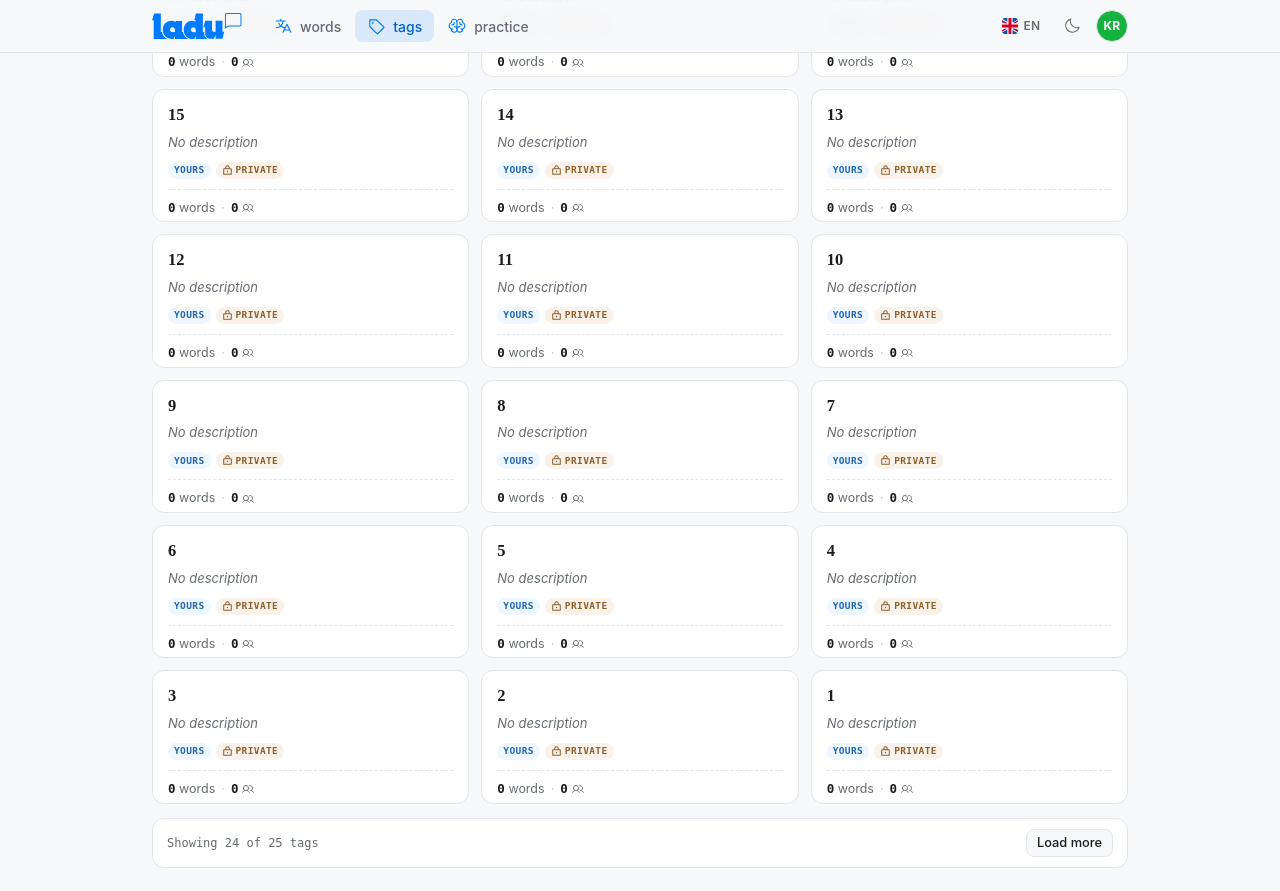
TagsPage — listing and scopes › Load more appends the next page
(page scrolled)
Step 1. Click the button "Load more" → click(1070, 843), box [1026, 829, 1113, 857]
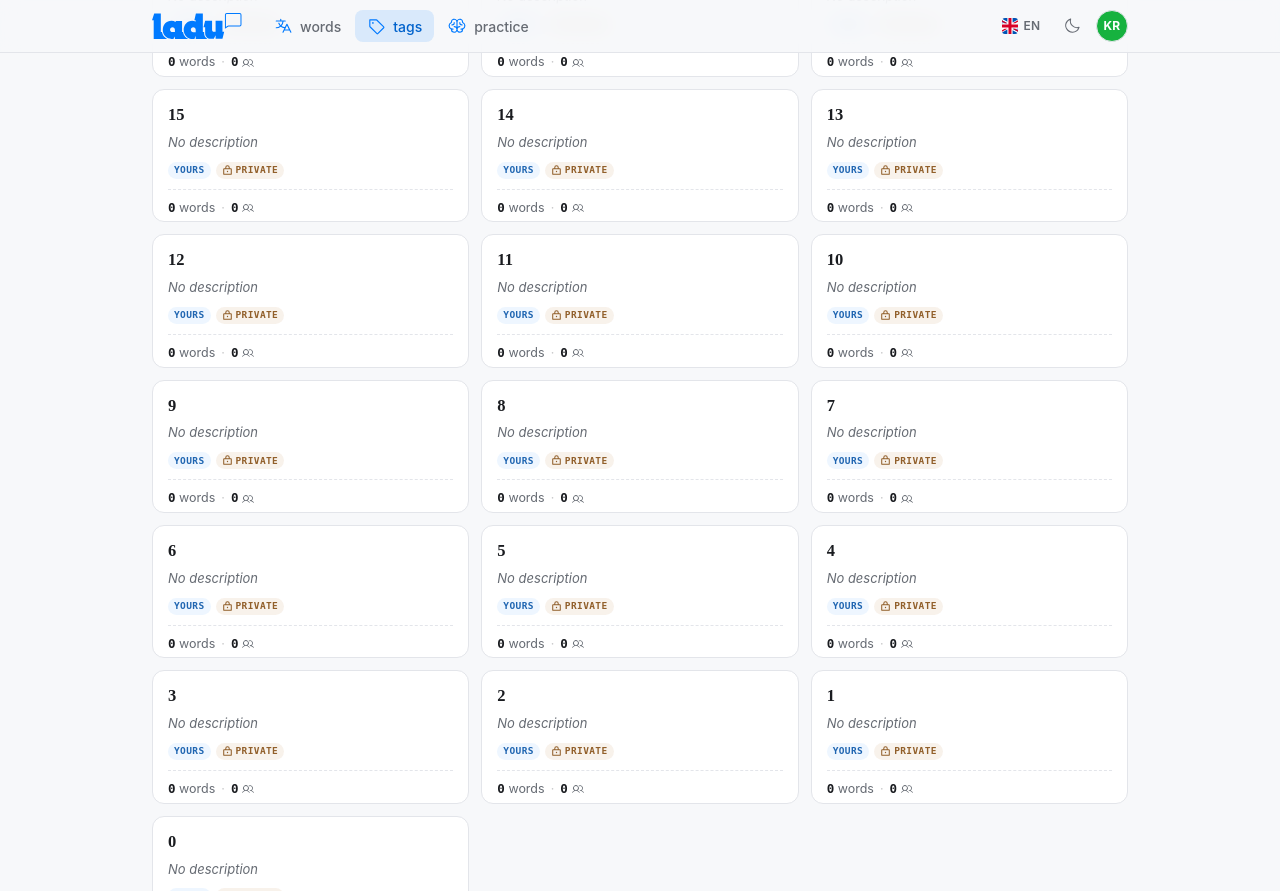
Expected: the button "Load more" is gone
